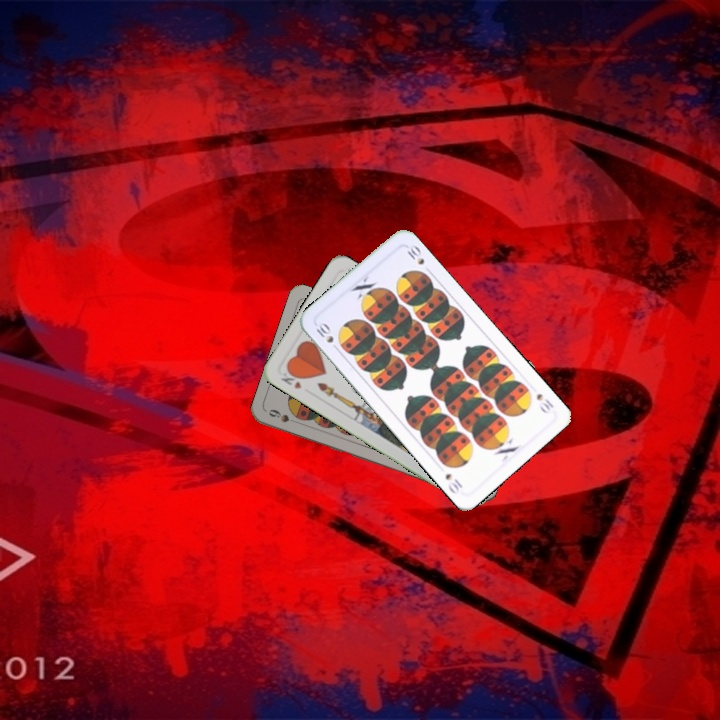HK: (277, 365, 306, 392)
S10: (532, 389, 557, 416), (312, 318, 336, 346)
S9: (264, 405, 304, 427)
